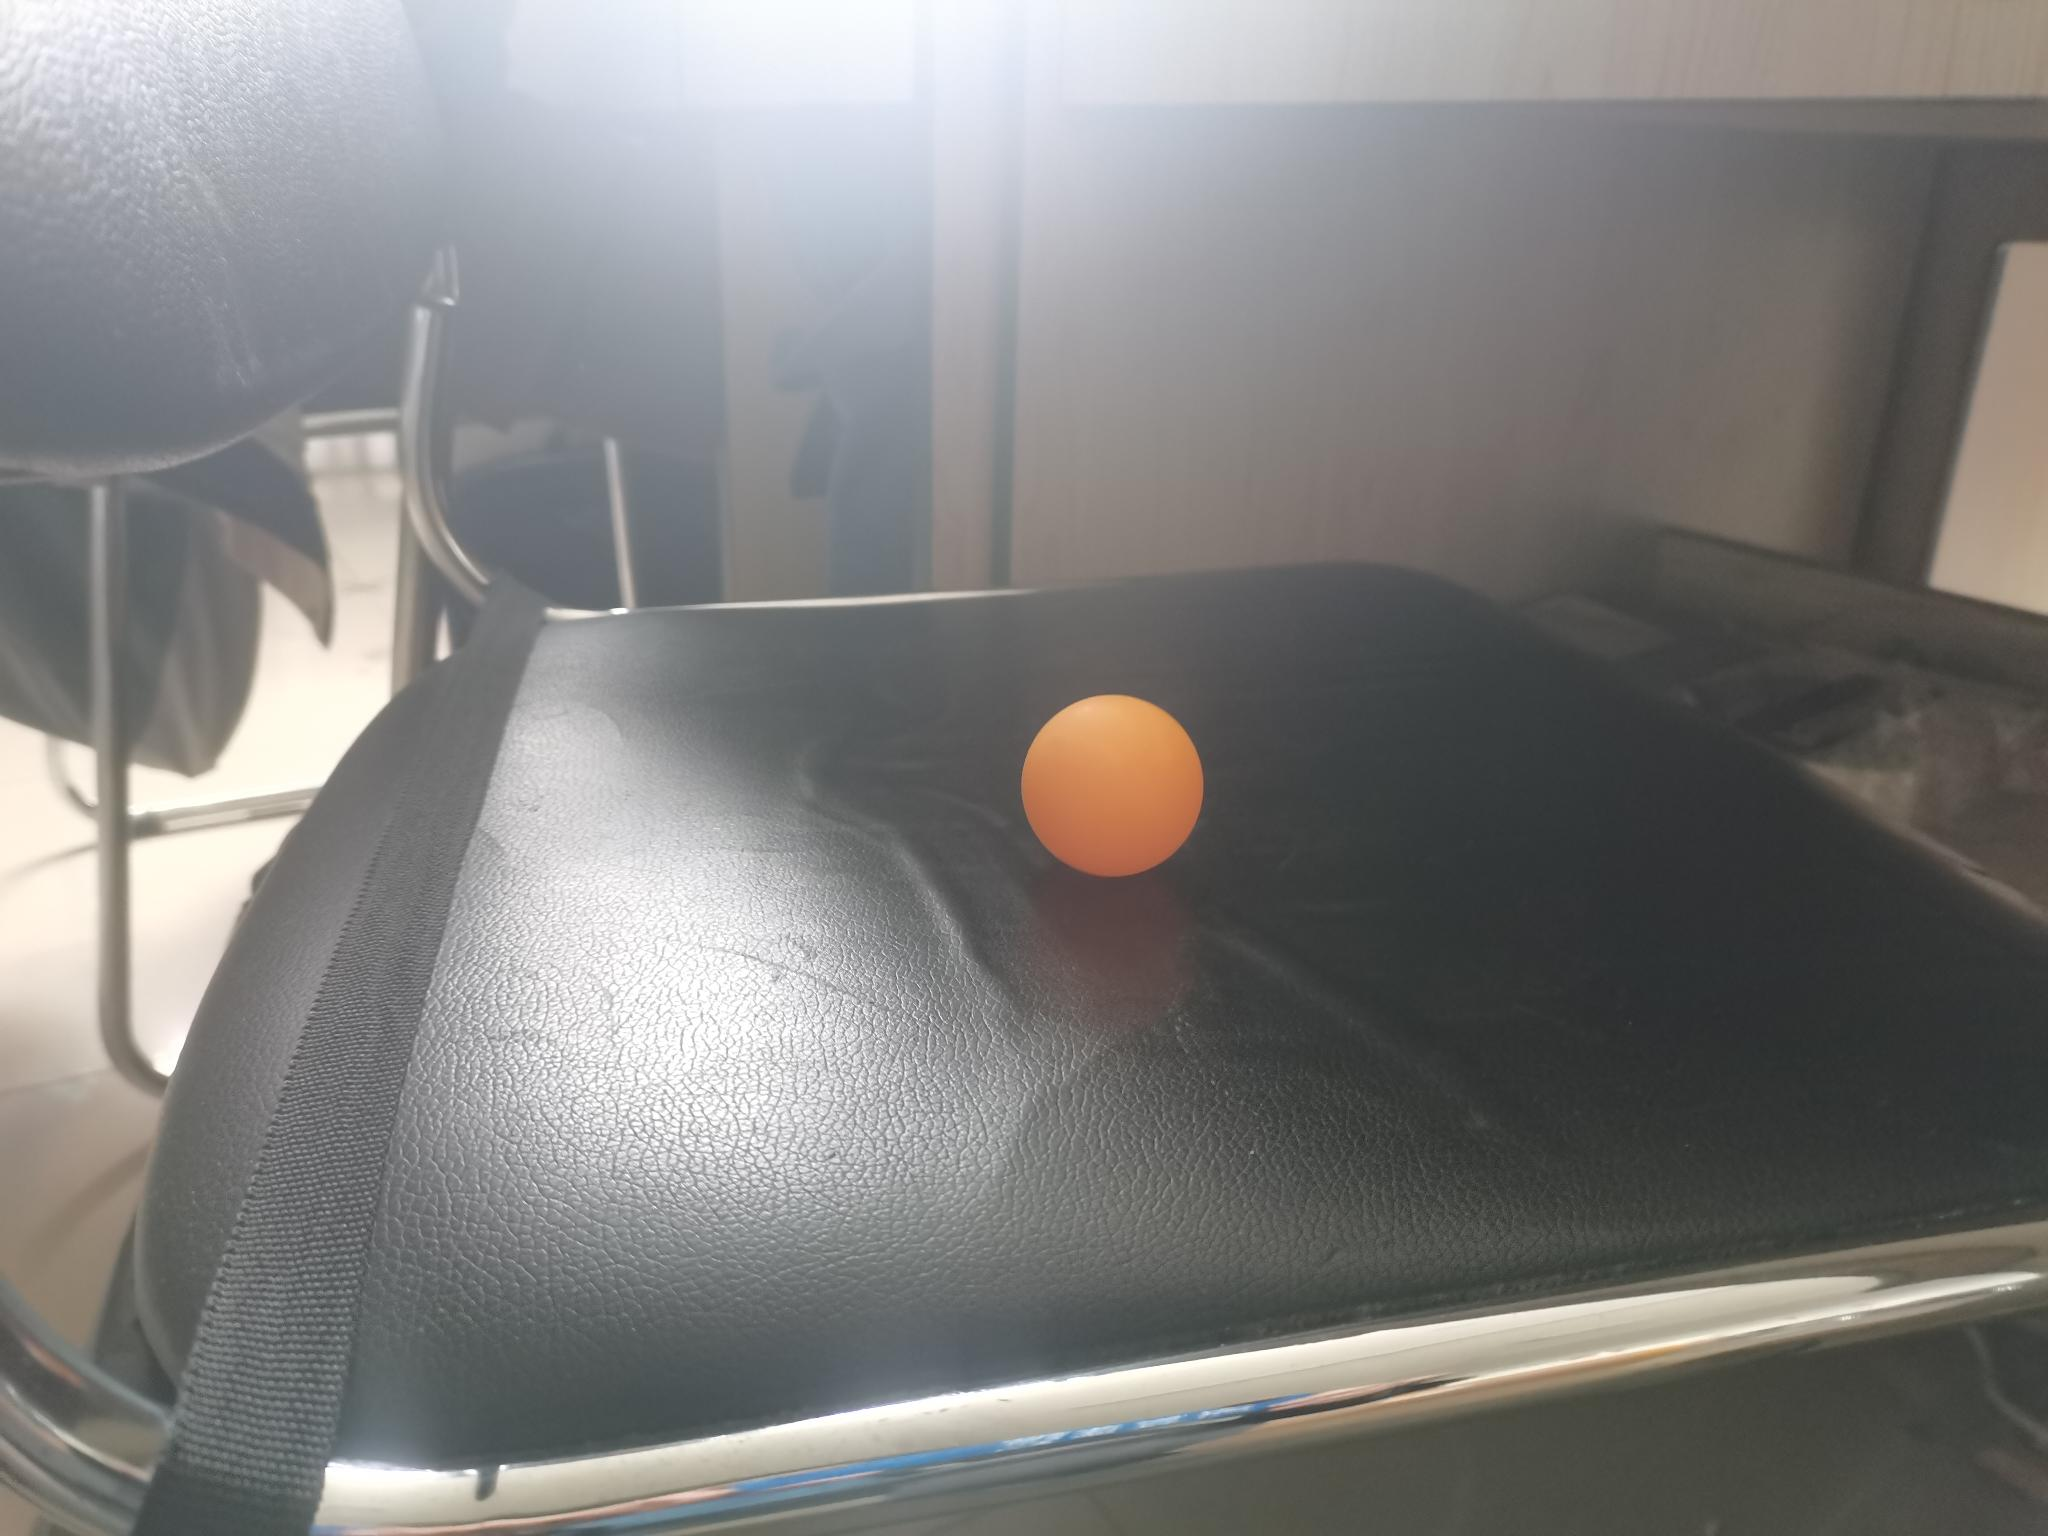ball: (1020, 690, 1202, 882)
